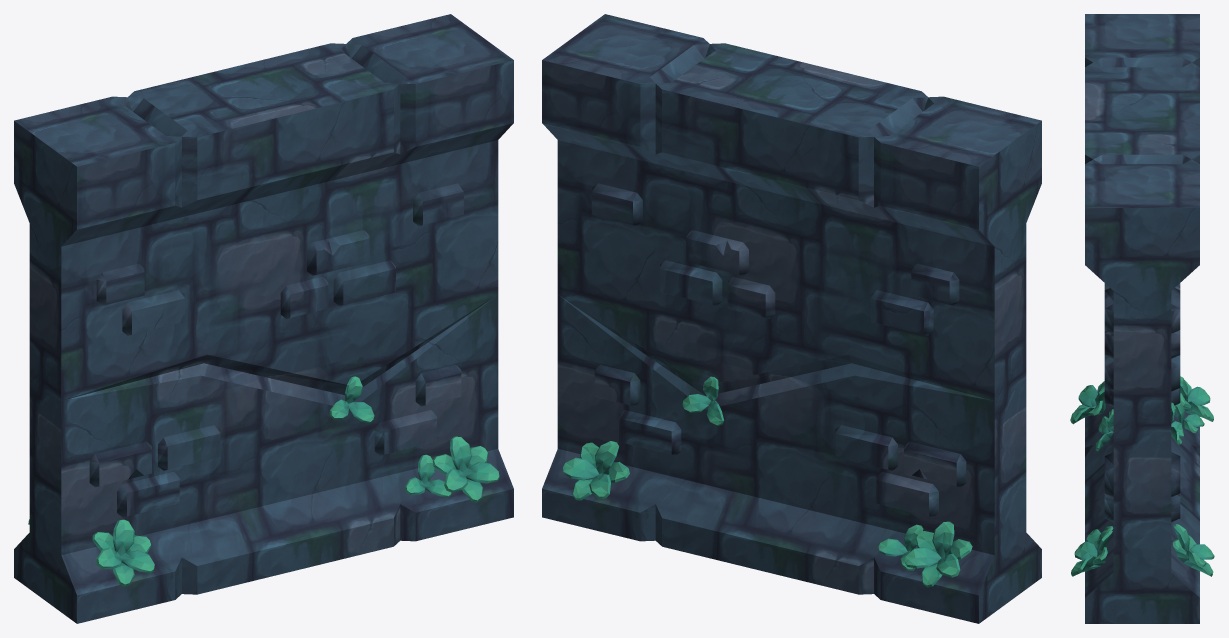
Rendered from wall_cracked.gltf.
3 renders of one model, left to right at view 1: azimuth 30°, elevation 25°; view 2: azimuth 150°, elevation 25°; view 3: azimuth 270°, elevation 25°, orthographic. The views are drawn at different scales.
Parts seen in each view (by area): view 1: wall_cracked; view 2: wall_cracked; view 3: wall_cracked.
Boxes of the visible parts, x1,y1,x2,y2 form: wall_cracked: (14, 14, 513, 623); wall_cracked: (542, 14, 1041, 623); wall_cracked: (1070, 14, 1214, 623).
Bounding box in the file's own units: 4 × 4 × 1.26.
7 materials, 1 textured.
